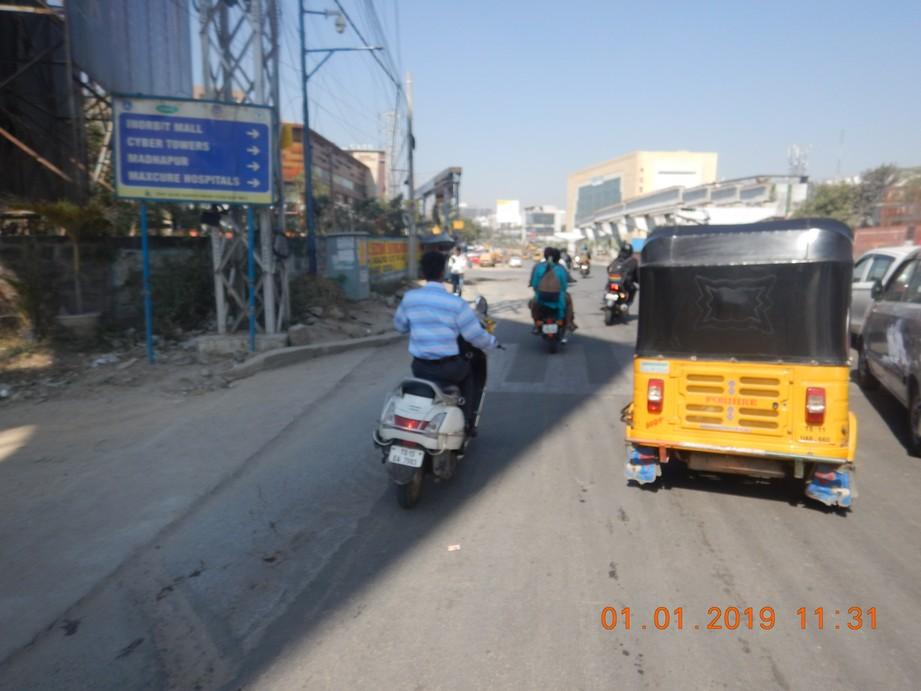plate: (386, 441, 425, 470)
